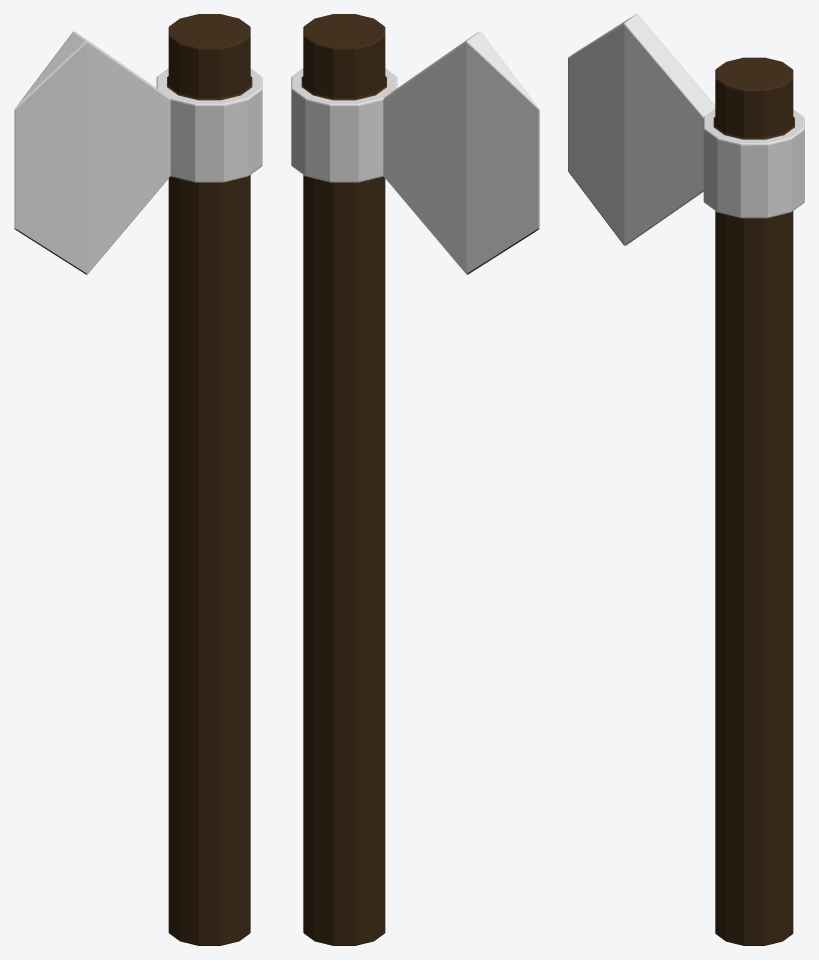
File: hacha.fbx
The picture shows the model from 3 angles, left to right: view 1: azimuth 30°, elevation 25°; view 2: azimuth 150°, elevation 25°; view 3: azimuth 330°, elevation 25°; orthographic projection. The views are drawn at different scales.
Parts seen in each view (by area): view 1: hacha; view 2: hacha; view 3: hacha.
Part boxes in pixels (left/top/right/bottom): hacha: left=14, top=14, right=262, bottom=945; hacha: left=291, top=14, right=539, bottom=945; hacha: left=568, top=14, right=804, bottom=945.
Size of the model in its own units: 49.19 by 180 by 18.74.
